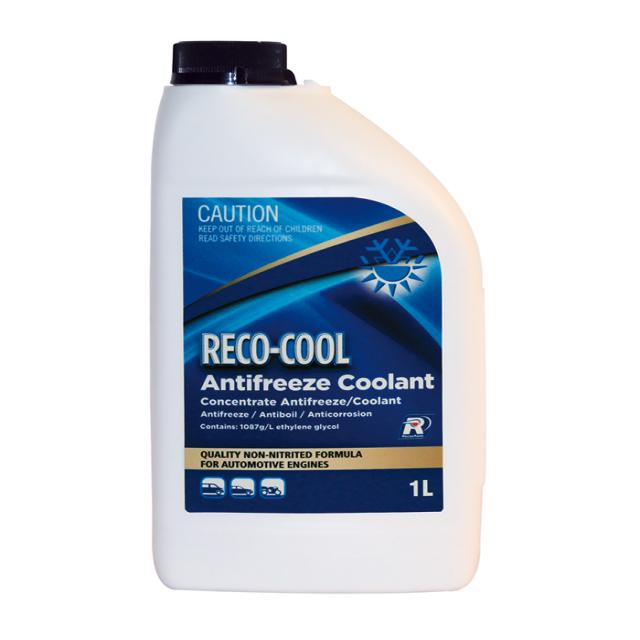coolant: (137, 33, 501, 602)
